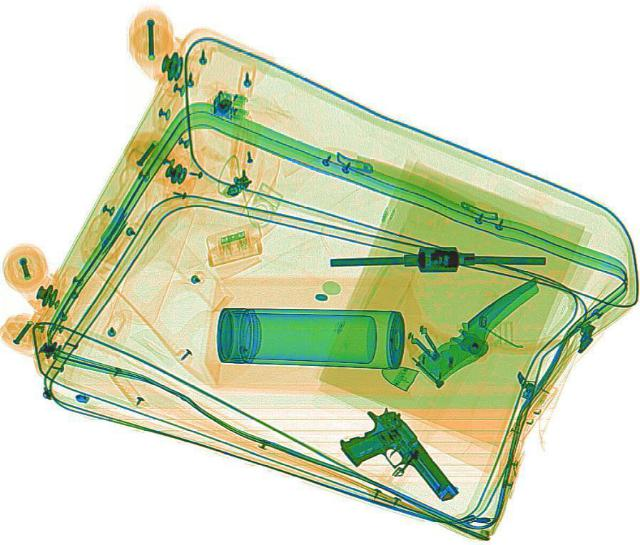Gun: (324, 398, 464, 522)
